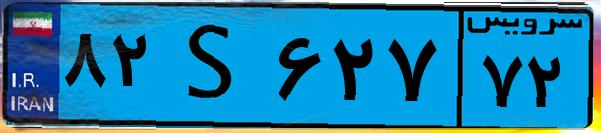2: (330, 28, 385, 110), (525, 38, 570, 115), (110, 28, 158, 98)
6: (270, 28, 330, 110)
7: (385, 28, 445, 110), (475, 38, 525, 113)
8: (57, 26, 110, 100)
S: (158, 12, 270, 120)
